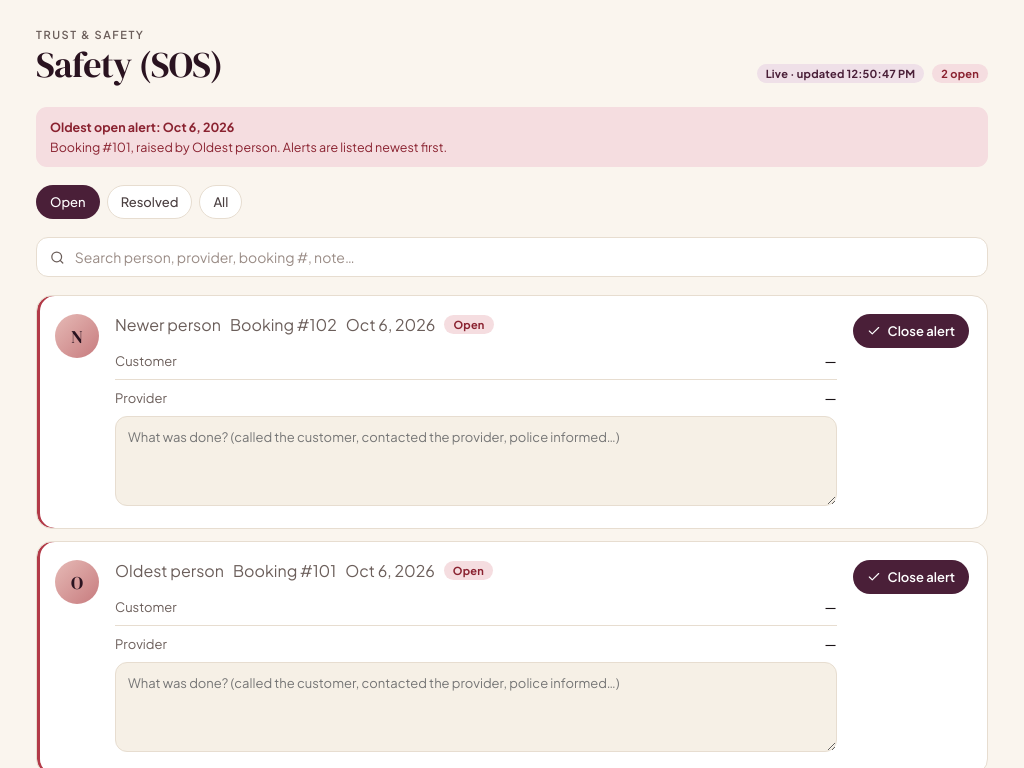
Test: <Safety> - the oldest-open-alert banner (R6-03) › a failed second read keeps the last confirmed screen and reports it as not live (existing failure behaviour)
In the field with placeholder "Search person, provider, booking #, note…": (523, 257) x1=73 y1=247 x2=974 y2=267, type "nobody-by-this-name"
Wait 15400 ms
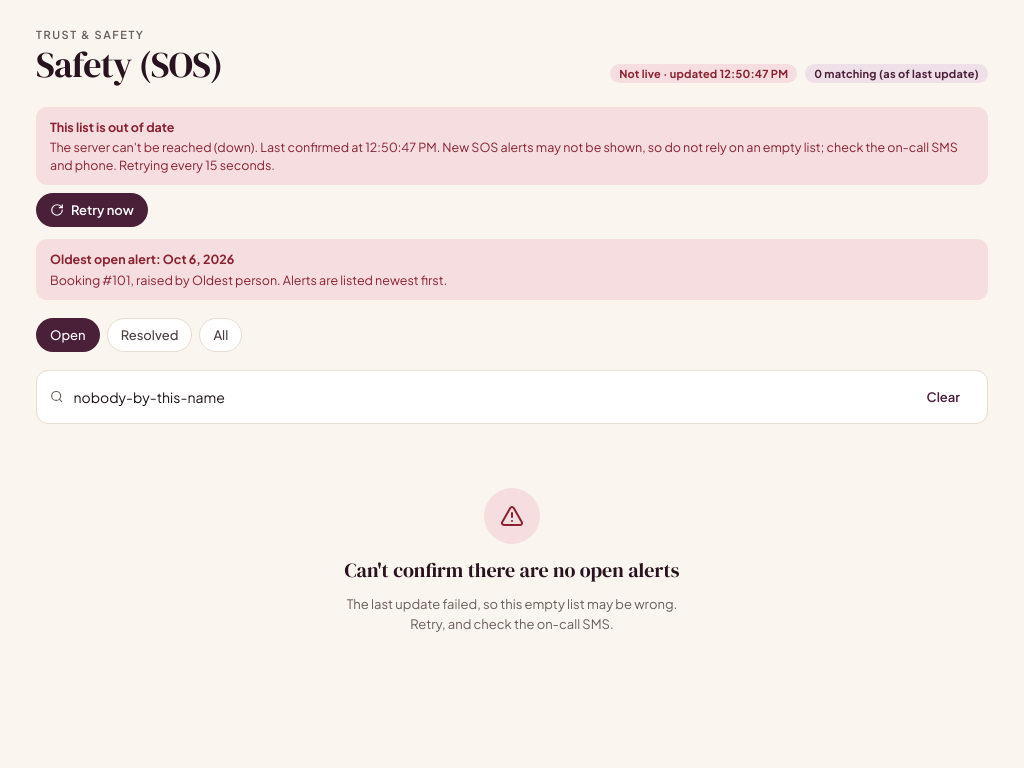
Check: the text "raised by Oldest person" is shown, box x1=50 y1=272 x2=447 y2=288
Check: the message with test id "sos-stale-banner" is shown, box x1=36 y1=107 x2=988 y2=227
